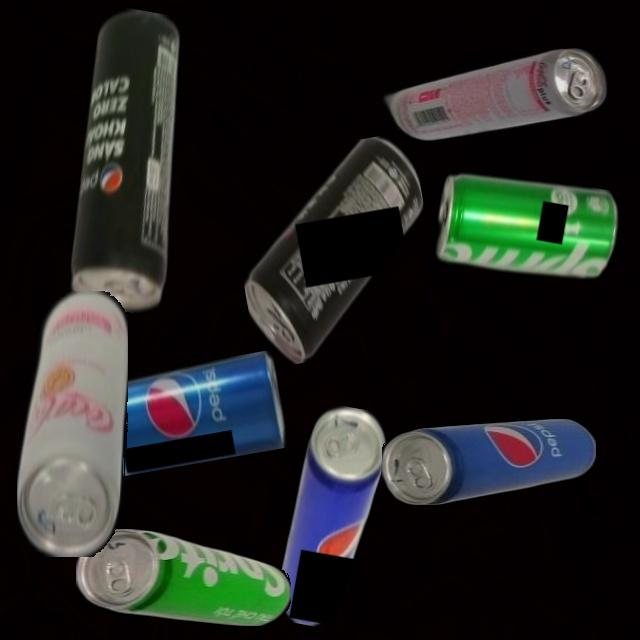debris: (223, 131, 447, 370), (51, 4, 211, 318), (16, 290, 128, 557), (273, 401, 392, 633), (429, 162, 626, 293), (94, 350, 289, 478), (382, 47, 608, 141), (76, 528, 291, 626), (382, 418, 596, 505)
